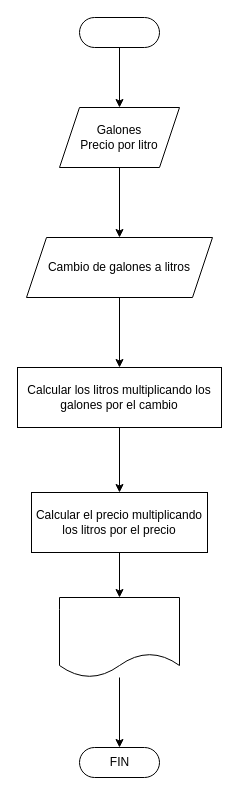
Image size: 239x795. Some labels were removed from this diagram. Each missing label, with the centre of its shape:
"Imprimir precio" belongs at [119,637].
"INICIO" belongs at [119,32].
